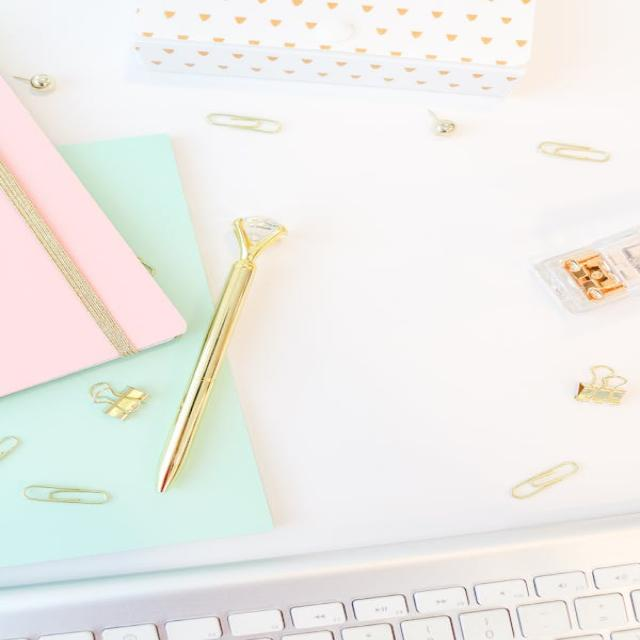pen: (187, 204, 259, 495)
